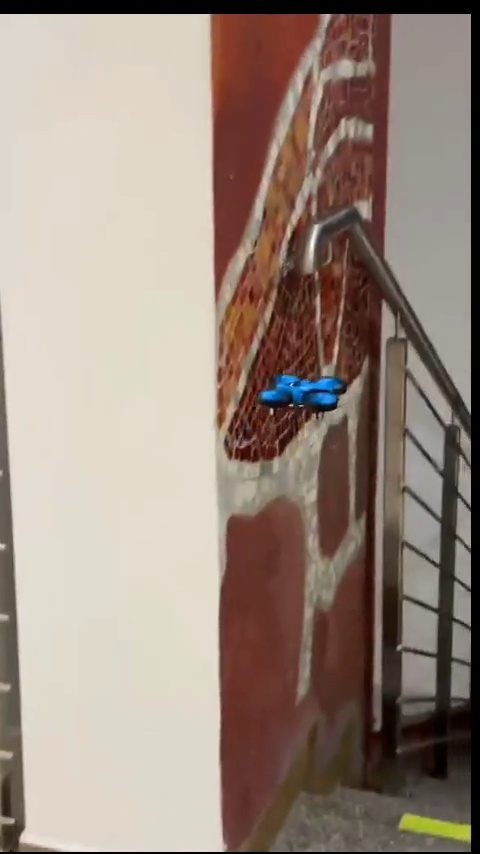drone: (259, 372, 345, 420)
